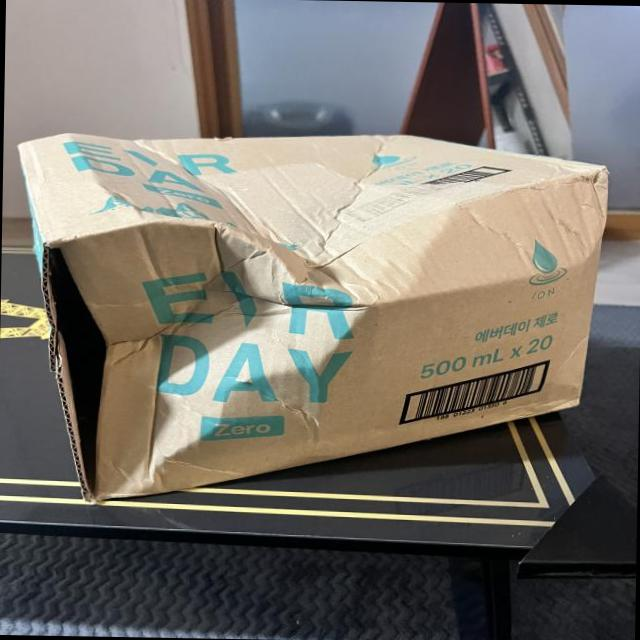box: (100, 96, 455, 630)
